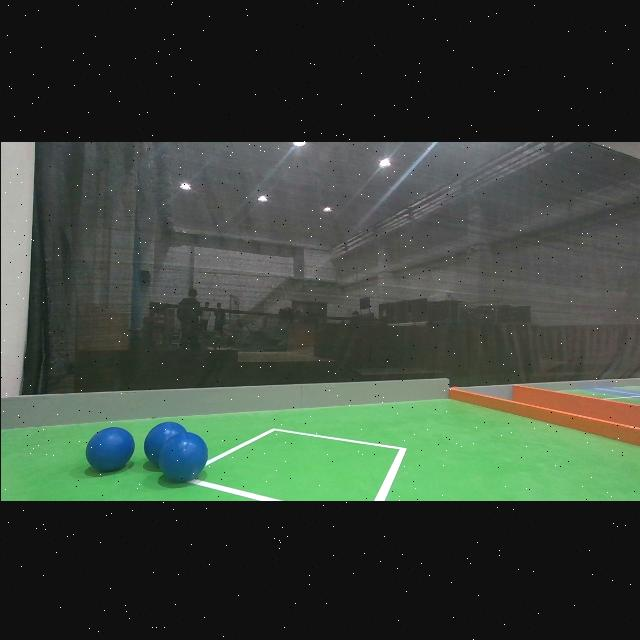B: (157, 431, 207, 481), (84, 426, 134, 470), (144, 423, 186, 463)
